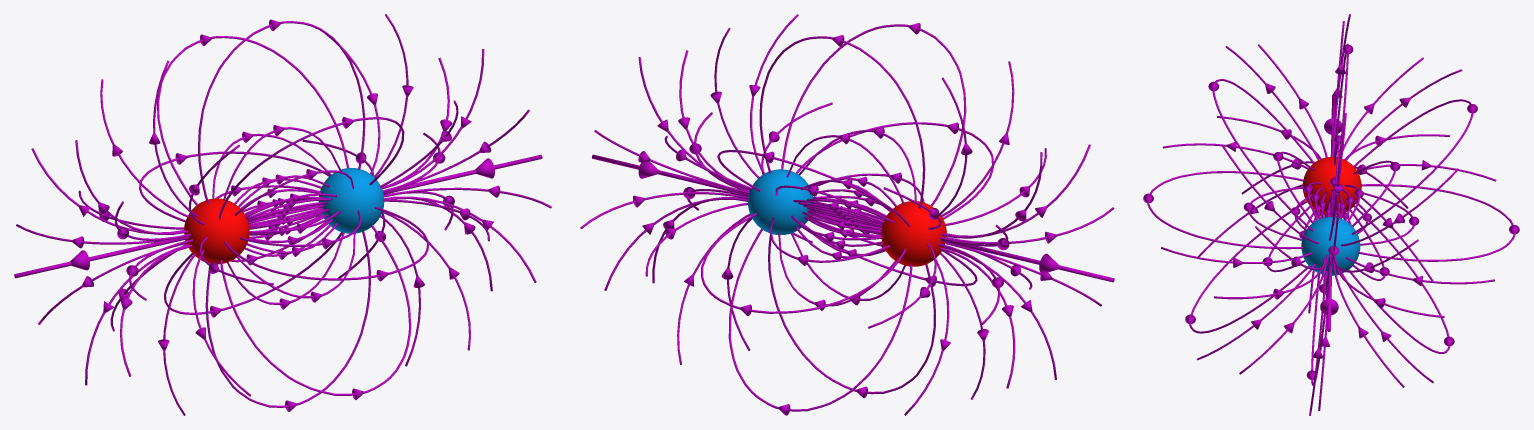
The model's file is dipolo electrico.glb.
The picture shows the model from 3 angles, left to right: view 1: azimuth 30°, elevation 25°; view 2: azimuth 150°, elevation 25°; view 3: azimuth 270°, elevation 25°; orthographic projection. The views are drawn at different scales.
Parts seen in each view (by area): view 1: recto-6.012; view 2: recto-6.012; view 3: recto-6.012.
Boxes of the visible parts, left/top/right/bottom form: recto-6.012: left=14, top=14, right=551, bottom=415; recto-6.012: left=580, top=14, right=1114, bottom=415; recto-6.012: left=1143, top=14, right=1519, bottom=415.
Size of the model in its own units: 0.7299 by 0.5011 by 0.5072.
